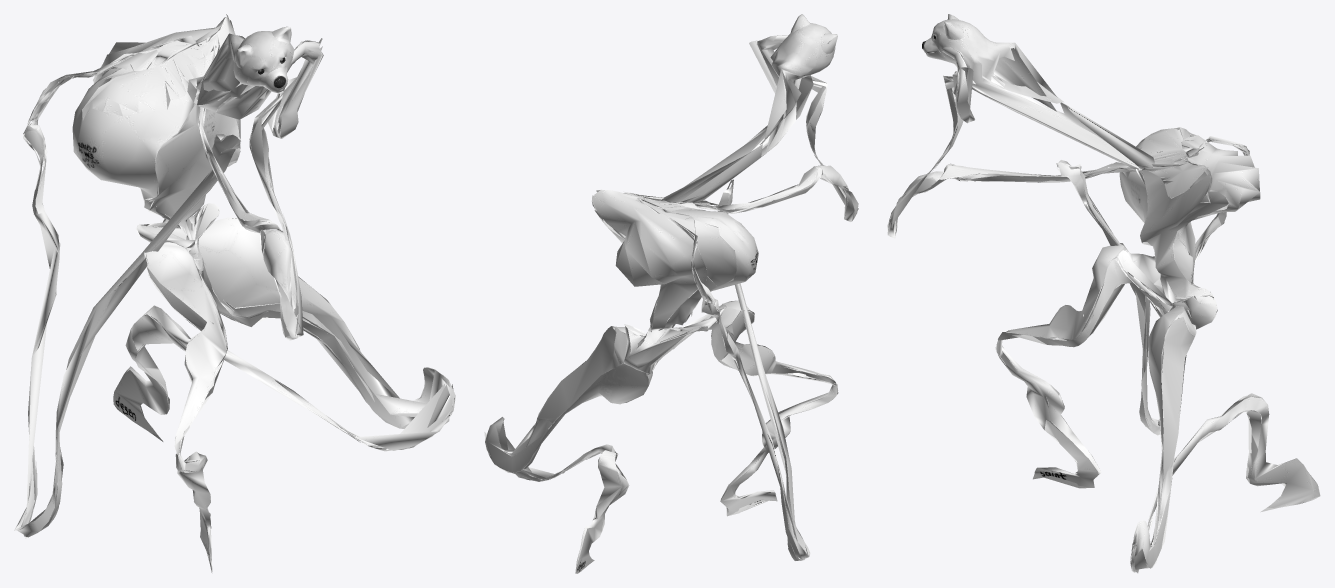
File: CROOKEDASWEFUNASYU-WHT-v102.glb
3 renders of one model, left to right at view 1: azimuth 30°, elevation 25°; view 2: azimuth 150°, elevation 25°; view 3: azimuth 270°, elevation 25°, orthographic. The views are drawn at different scales.
Parts seen in each view (by area): view 1: CROOKEDASWEFUNASYU-WHT; view 2: CROOKEDASWEFUNASYU-WHT; view 3: CROOKEDASWEFUNASYU-WHT.
Part boxes in pixels (x1,y1,x2,y2): CROOKEDASWEFUNASYU-WHT: (14, 14, 455, 572); CROOKEDASWEFUNASYU-WHT: (484, 14, 858, 573); CROOKEDASWEFUNASYU-WHT: (887, 14, 1320, 573).
Size of the model in its own units: 1.55 by 2.01 by 1.69.
1 material, 1 textured.
